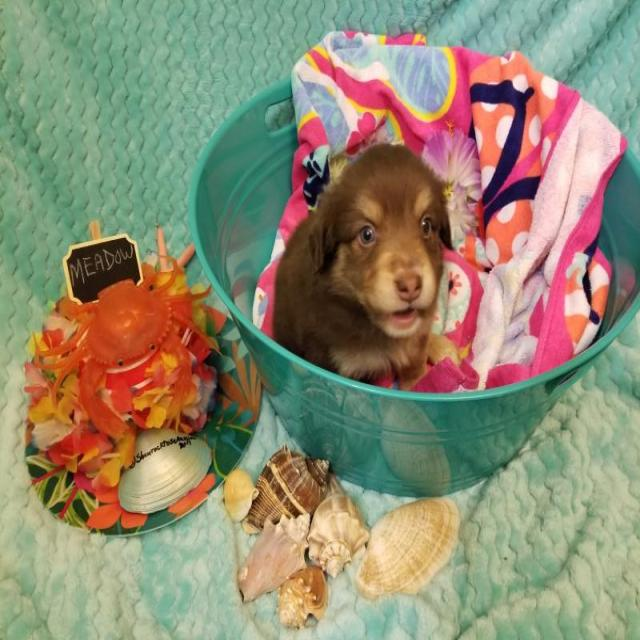dog: (288, 128, 478, 392)
